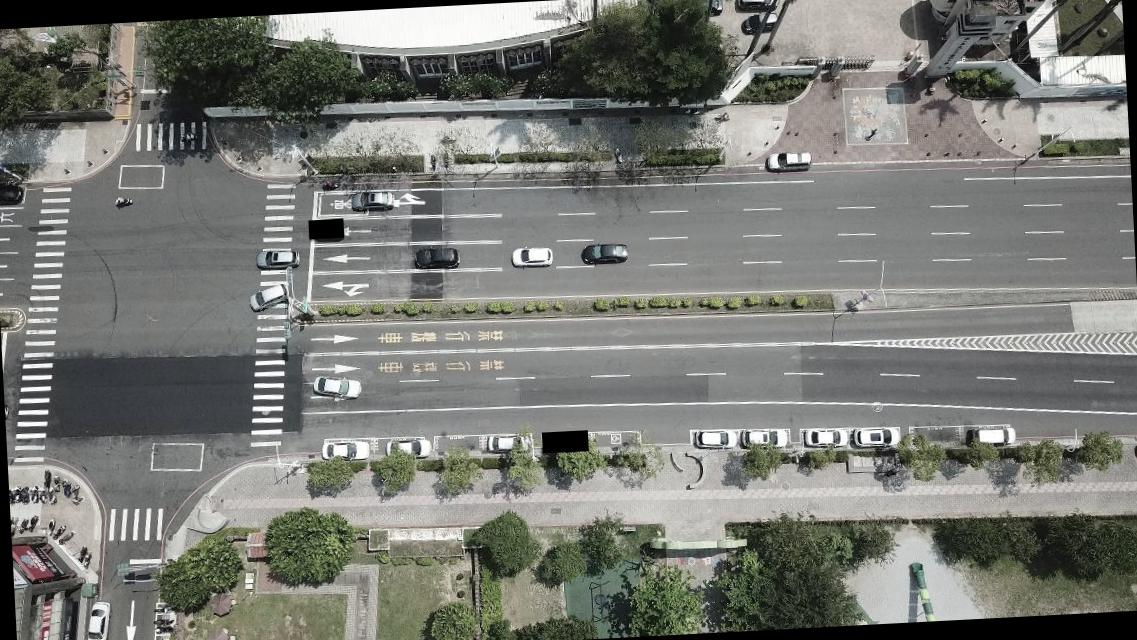vehicle: (312, 372, 362, 402), (84, 600, 114, 639), (247, 284, 288, 312), (412, 246, 459, 270), (320, 439, 369, 462), (739, 426, 788, 449), (254, 248, 301, 271), (853, 426, 901, 448), (350, 189, 394, 212), (385, 438, 431, 460), (693, 428, 737, 451), (766, 152, 811, 174), (580, 244, 627, 265), (802, 428, 849, 448), (509, 246, 553, 267), (486, 434, 530, 454), (975, 427, 1016, 446), (739, 13, 780, 32), (692, 0, 724, 20), (733, 0, 779, 12)
